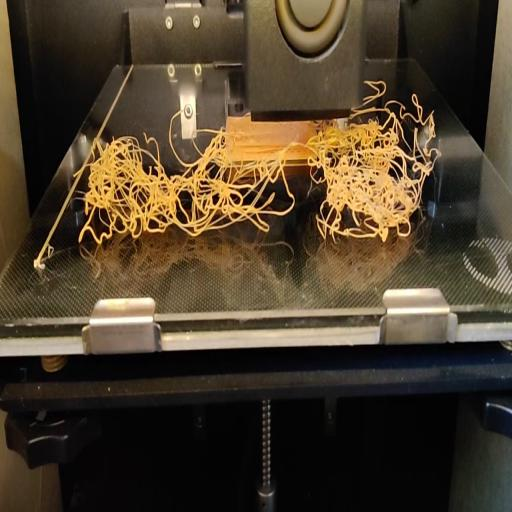spaghetti: (68, 115, 440, 243), (364, 69, 424, 111)
